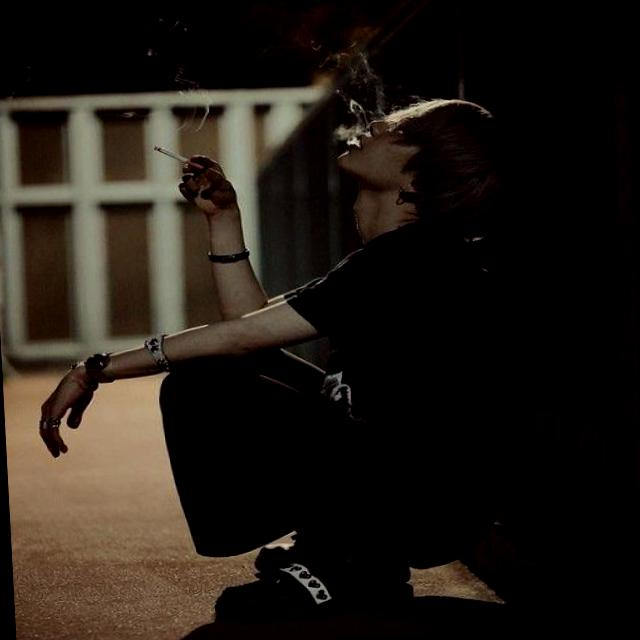smoke: (137, 131, 192, 164)
